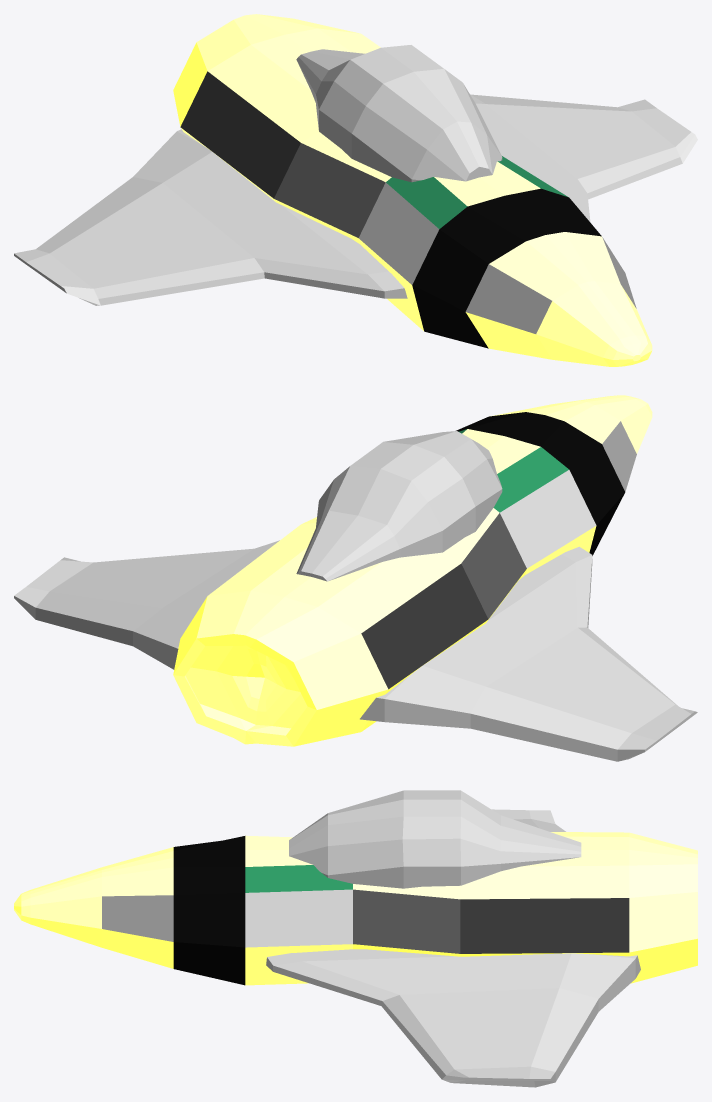
3 renders of one model, top to bottom at view 1: azimuth 30°, elevation 25°; view 2: azimuth 150°, elevation 25°; view 3: azimuth 270°, elevation 25°, orthographic. The views are drawn at different scales.
Visible parts, largest first — view 1: Cube, Cube.005, Cube.004; view 2: Cube, Cube.005, Cube.004; view 3: Cube, Cube.005, Cube.004.
Boxes of the visible parts, <box> form: Cube: <box>173,14,652,366</box>; Cube.005: <box>14,94,697,305</box>; Cube.004: <box>296,45,502,182</box>; Cube: <box>173,395,652,746</box>; Cube.005: <box>14,540,697,761</box>; Cube.004: <box>296,431,502,581</box>; Cube: <box>14,832,697,985</box>; Cube.005: <box>266,809,640,1087</box>; Cube.004: <box>289,790,581,888</box>.
Bounding box in the file's own units: 530 × 151 × 571.
